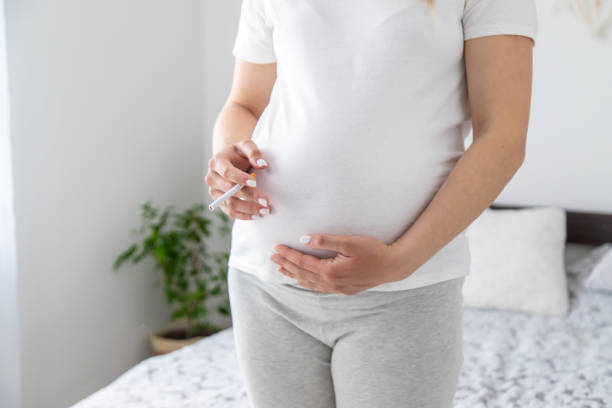cigarette: (208, 172, 256, 211)
